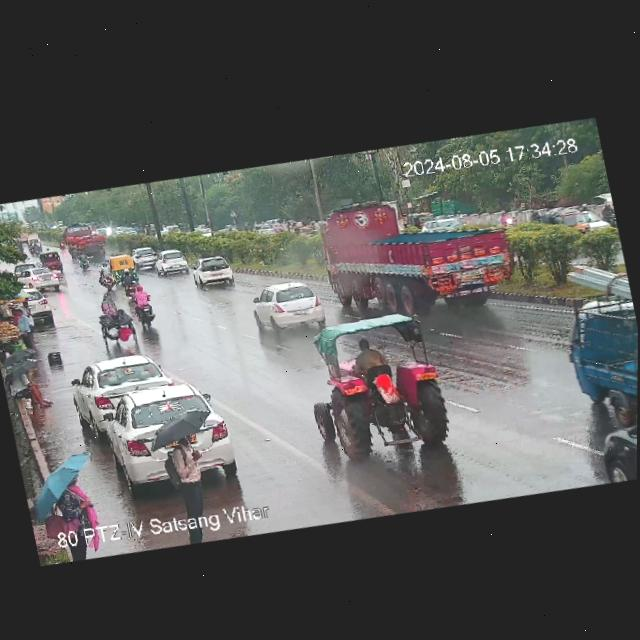car: (98, 371, 239, 500), (68, 344, 170, 429), (249, 274, 326, 338), (588, 404, 637, 485), (93, 292, 139, 351), (0, 281, 55, 323), (532, 203, 588, 242), (188, 252, 237, 292), (17, 261, 65, 298), (153, 246, 193, 279), (108, 252, 139, 278), (13, 257, 42, 279), (133, 248, 160, 270), (130, 243, 159, 262), (40, 249, 63, 272), (57, 236, 65, 250)
motorcycle: (133, 284, 155, 327), (118, 266, 137, 303), (97, 260, 116, 291), (77, 249, 90, 271), (28, 241, 41, 257)
person: (39, 456, 104, 562), (163, 431, 217, 524), (8, 365, 51, 413), (11, 306, 34, 352), (20, 297, 40, 345), (9, 306, 17, 323)
truck: (316, 168, 524, 332), (298, 299, 458, 466), (546, 285, 638, 425), (64, 218, 104, 263)
